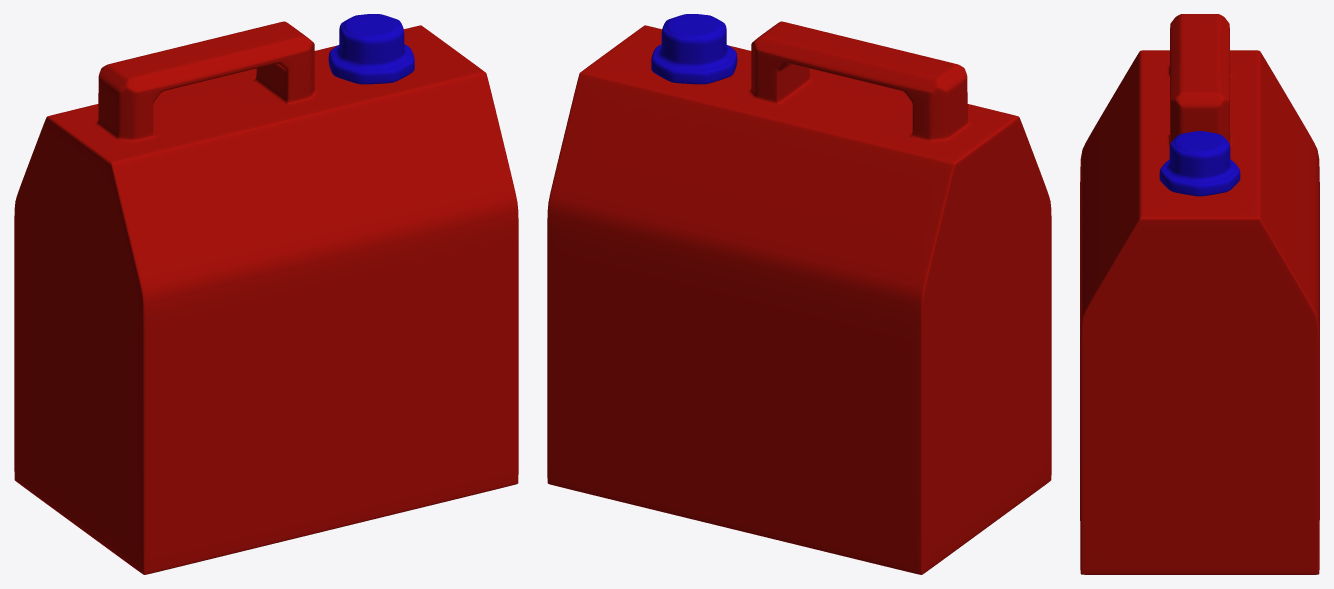
The model's file is Bottletube.fbx.
3 views of the same model, side by side, from view 1: azimuth 30°, elevation 25°; view 2: azimuth 150°, elevation 25°; view 3: azimuth 270°, elevation 25° (orthographic). The views are drawn at different scales.
Parts seen in each view (by area): view 1: bottomtube_Baked, bottomtube cap_Baked; view 2: bottomtube_Baked, bottomtube cap_Baked; view 3: bottomtube_Baked, bottomtube cap_Baked.
Boxes of the visible parts, x1,y1,x2,y2 form: bottomtube_Baked: (14,21,518,574); bottomtube cap_Baked: (328,14,414,84); bottomtube_Baked: (547,21,1051,574); bottomtube cap_Baked: (651,14,737,84); bottomtube_Baked: (1080,14,1319,574); bottomtube cap_Baked: (1159,131,1240,196).
Size of the model in its own units: 6.22 by 7.08 by 3.74.
